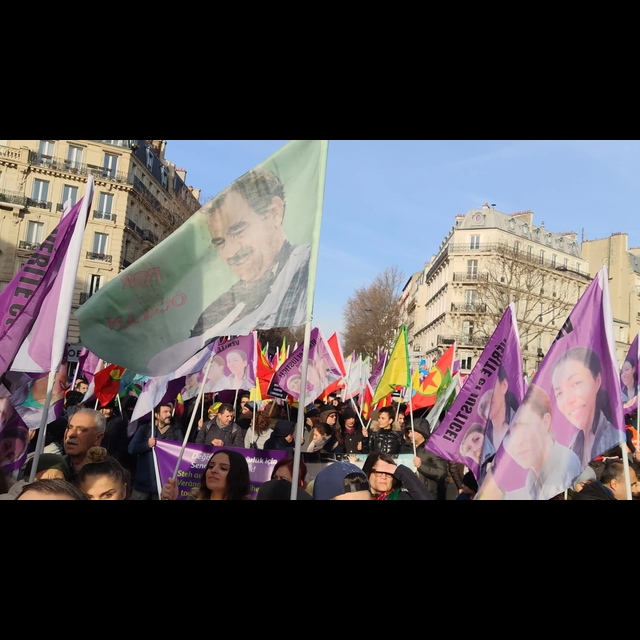APO: (215, 199, 282, 288)
